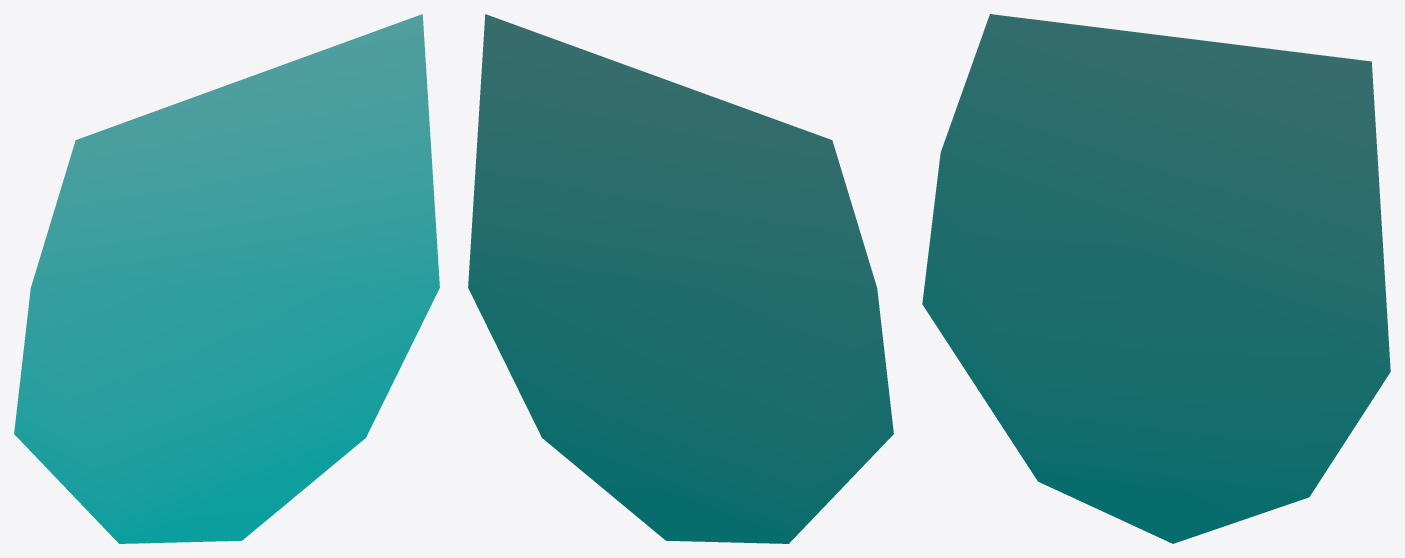
The model's file is Lemon_Balm_umslacdia_Mid_umslacdia_VarA_LOD3.fbx.
3 views of the same model, side by side, from view 1: azimuth 30°, elevation 25°; view 2: azimuth 150°, elevation 25°; view 3: azimuth 330°, elevation 25° (orthographic). The views are drawn at different scales.
Parts seen in each view (by area): view 1: _waoa_VarA_LOD5; view 2: _waoa_VarA_LOD5; view 3: _waoa_VarA_LOD5.
Boxes of the visible parts, box(x1,y1,x2,y2) form: _waoa_VarA_LOD5: box(14, 14, 439, 543); _waoa_VarA_LOD5: box(468, 14, 893, 543); _waoa_VarA_LOD5: box(922, 14, 1390, 543).
Size of the model in its own units: 68.31 by 73.99 by 0.
